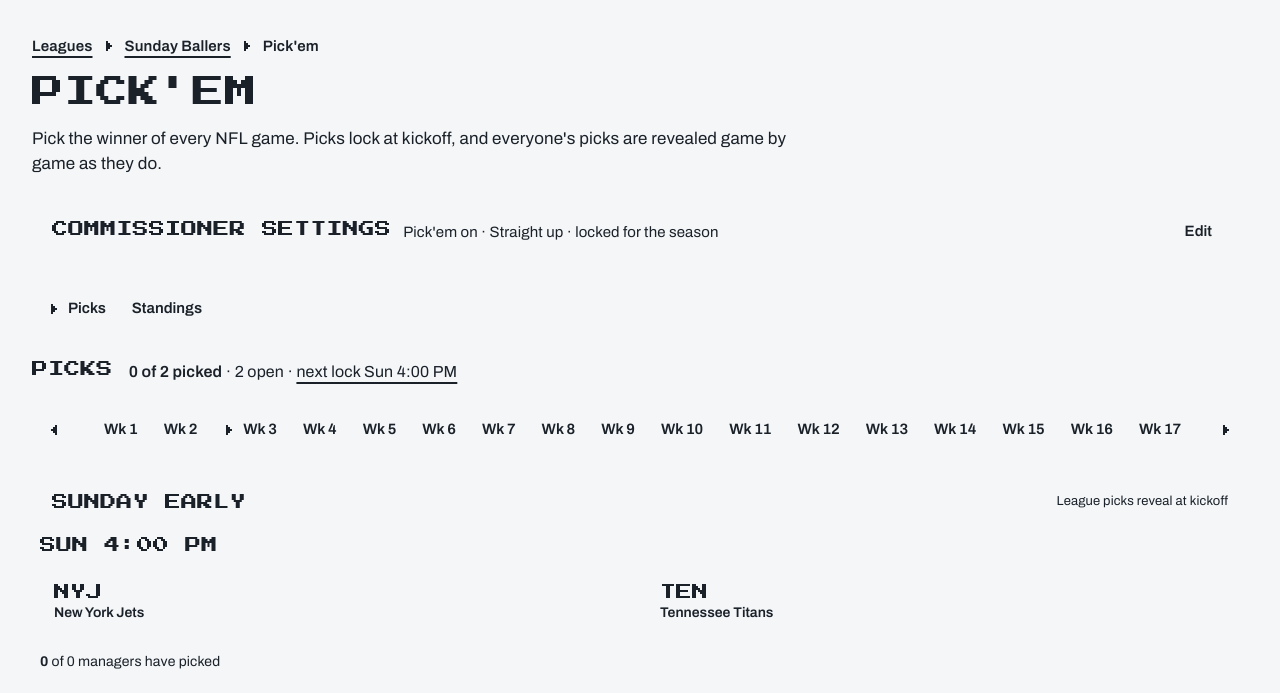
Test: AC 6g: after the season's first pick the scoring radios are disabled and the row says locked for the season
Expected: the text with test id "pickem-settings-summary" shows "locked for the season", [403, 224, 719, 240]
Click the button "Edit".
click(1198, 231)  # box [1168, 209, 1228, 253]
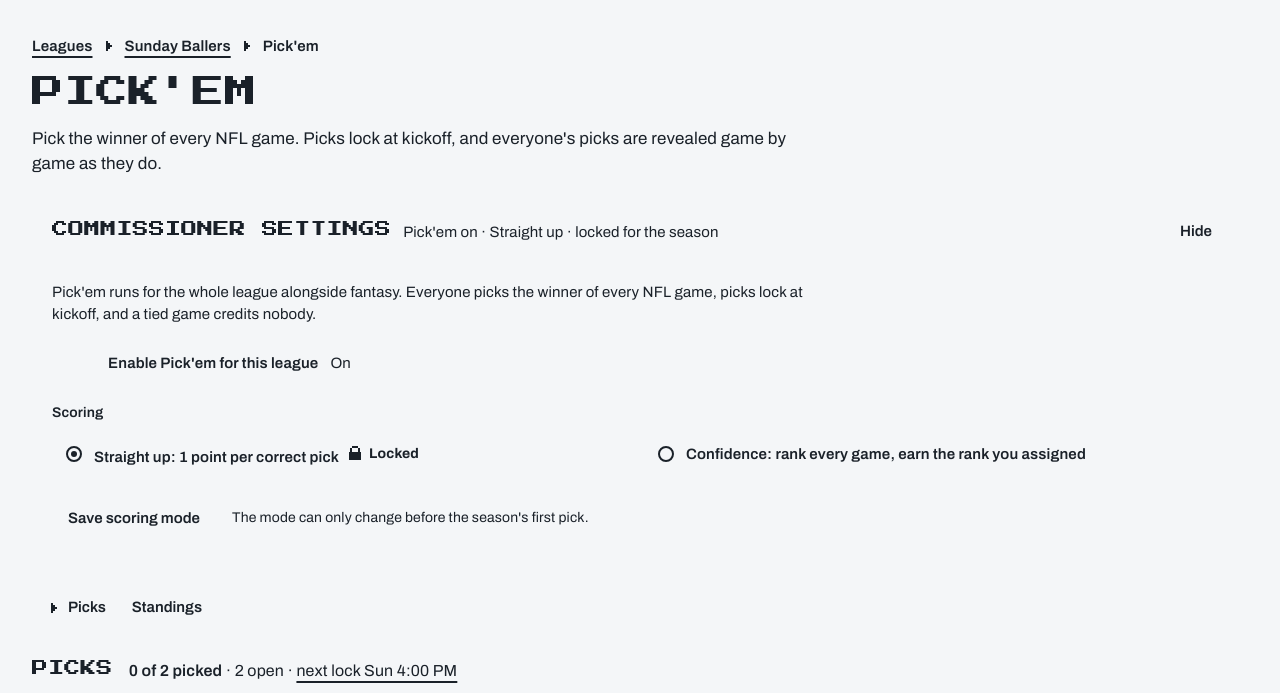
Now the radio button labelled "Straight up: 1 point per correct pick Locked" is disabled, box [66, 445, 419, 464]
Now the radio button labelled "Confidence: rank every game, earn the rank you assigned" is disabled, box [658, 446, 1086, 462]
Now the text "The mode can only change before the season's first pick." is shown, box [232, 507, 589, 528]
